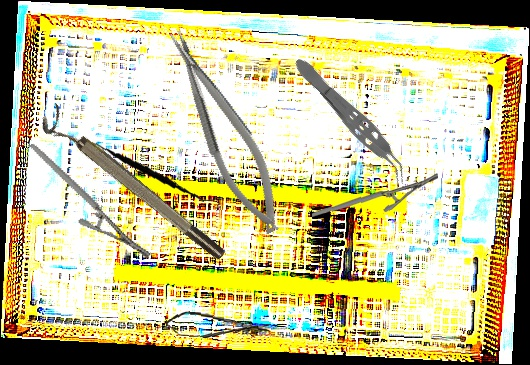Fixation Ring: (36, 103, 229, 271)
Micro Scissor: (165, 309, 271, 344)
Needle Holder: (158, 19, 294, 243), (28, 118, 154, 283), (312, 168, 438, 222)
Spatula Surgical: (83, 128, 217, 214)
Tissue Forceps: (287, 51, 417, 189)
